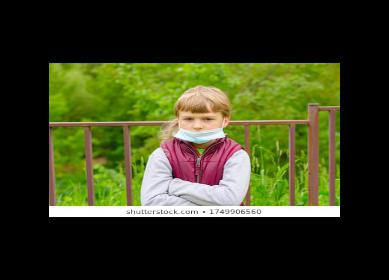mask_weared_incorrect: (180, 115, 220, 143)
